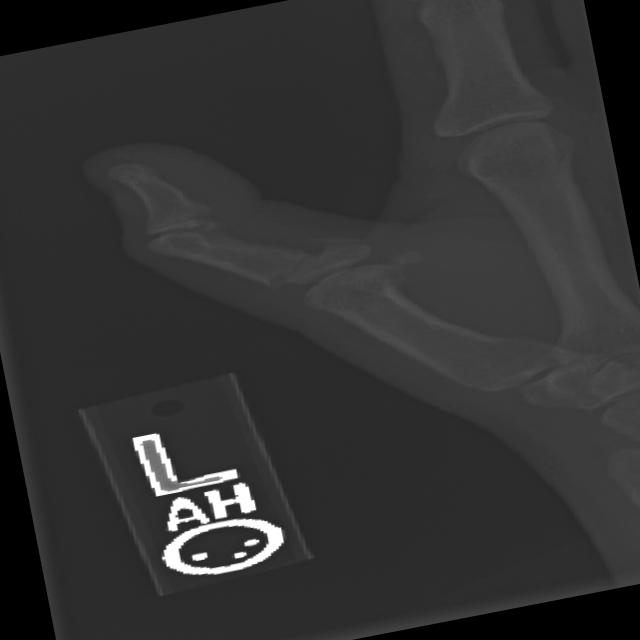fingers positive: (215, 214, 434, 315)
